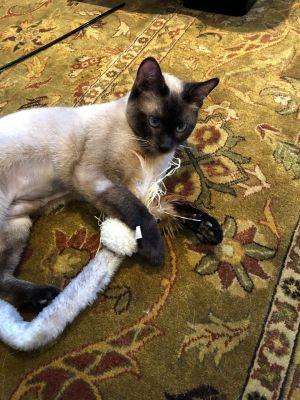siamese: (120, 52, 219, 164)
